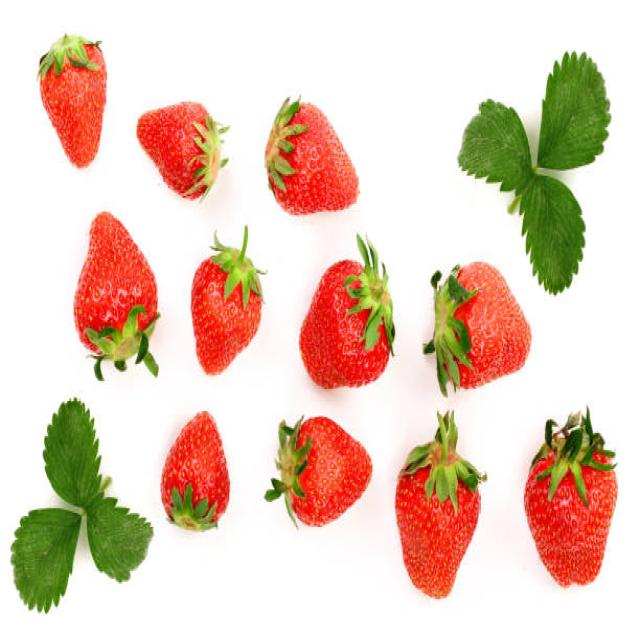Healthy Fruit: (523, 447, 619, 589), (298, 256, 391, 388), (74, 212, 159, 356), (393, 459, 480, 599), (441, 260, 533, 390), (270, 103, 361, 216), (288, 417, 375, 531), (189, 256, 263, 376), (38, 39, 106, 166), (159, 409, 231, 525), (137, 99, 215, 200)
